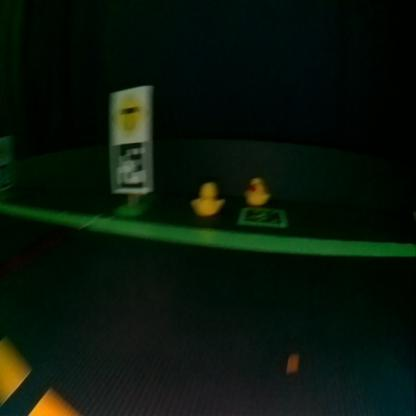Duckie: (194, 182, 222, 215), (243, 177, 265, 202)
Intersection sign: (113, 91, 146, 136)
QR code: (110, 146, 148, 190), (237, 206, 282, 227)
